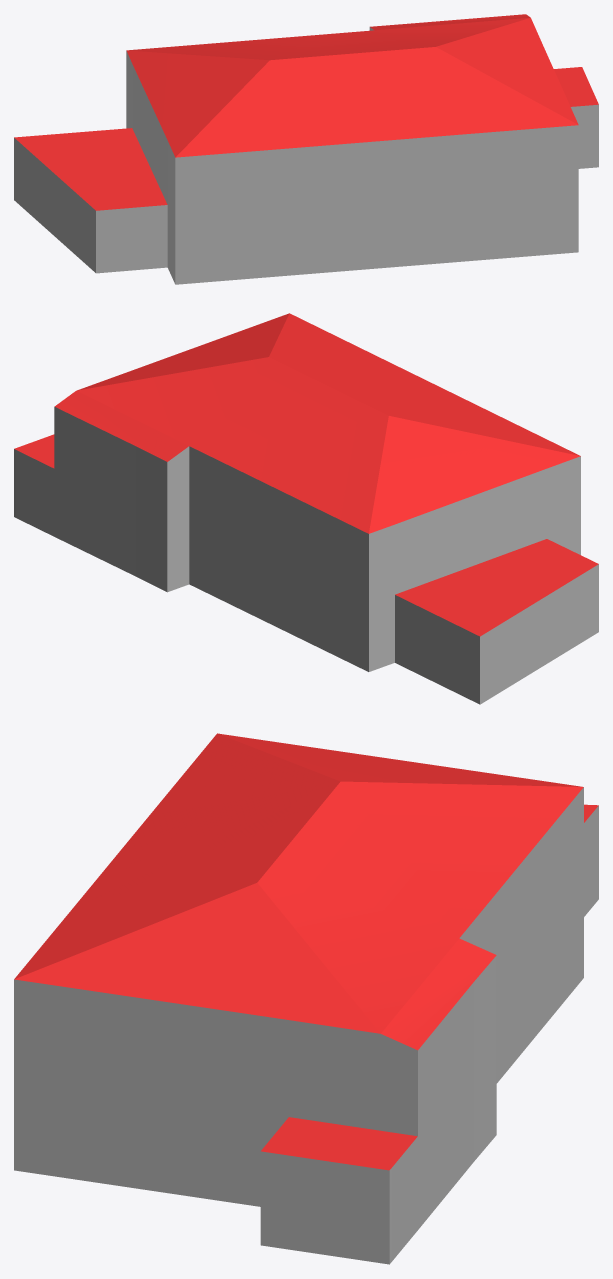
The model's file is DEBY_LOD2_63914765.dae.
3 renders of one model, top to bottom at view 1: azimuth 30°, elevation 25°; view 2: azimuth 150°, elevation 25°; view 3: azimuth 270°, elevation 25°, orthographic. The views are drawn at different scales.
Bounding box in the file's own units: 28.23 × 18.6 × 8.5.
